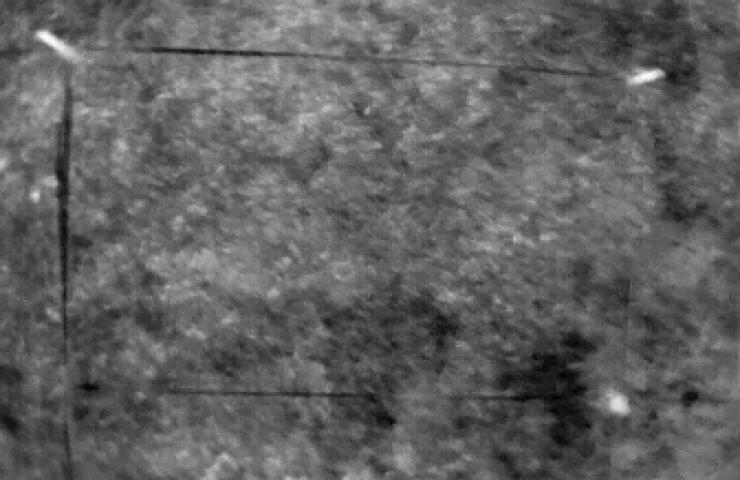landmines: (331, 261, 358, 284)
